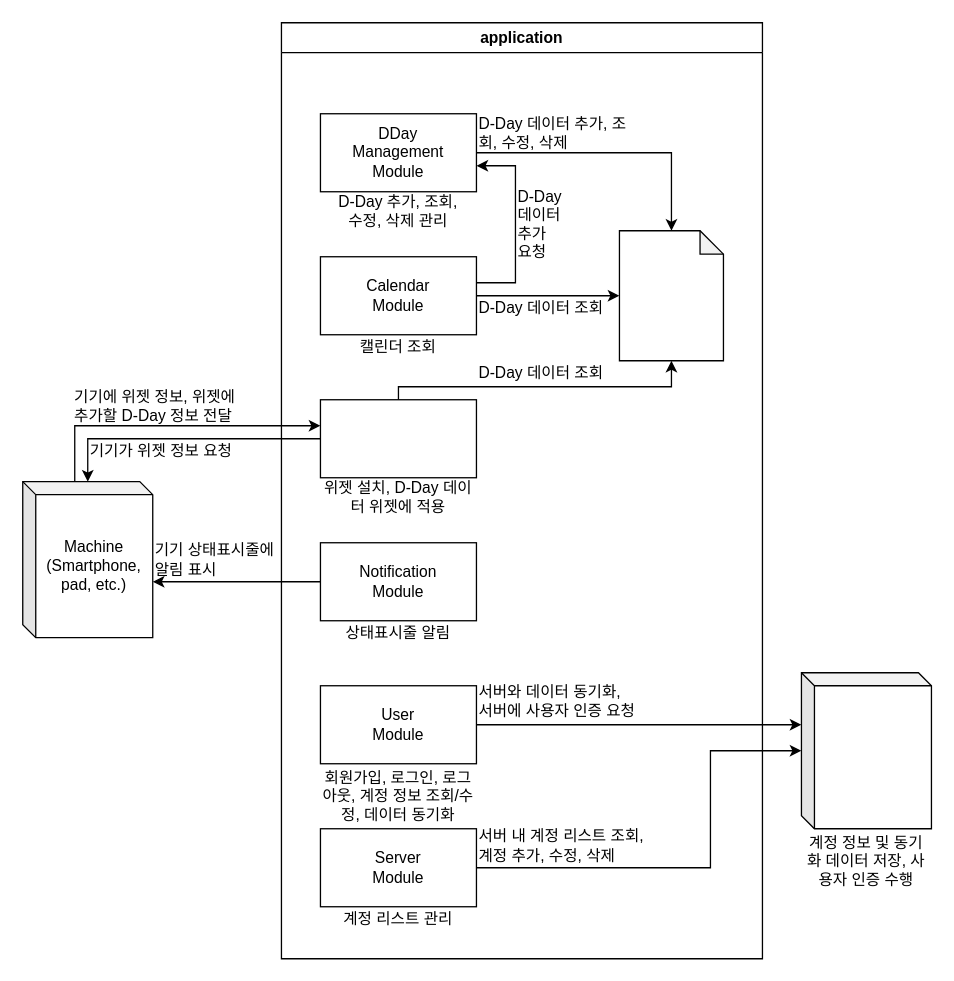
The diagram is 954 pixels wide and 981 high, and some of its shapes have lost their labels. Here are the shapes that lost their labels. From the top down, the centre of each, then its label:
point (670, 295): DDay AppData File
point (397, 438): Widget Module
point (865, 750): Server System
